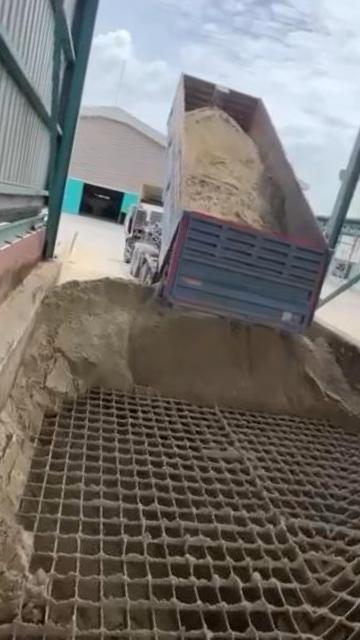sand: (0, 279, 358, 625), (182, 107, 287, 233)
